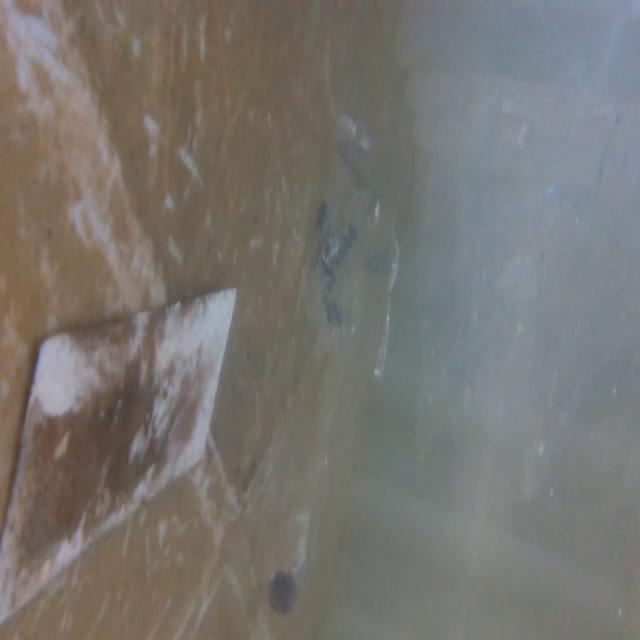plastic bags: (287, 108, 410, 388)
